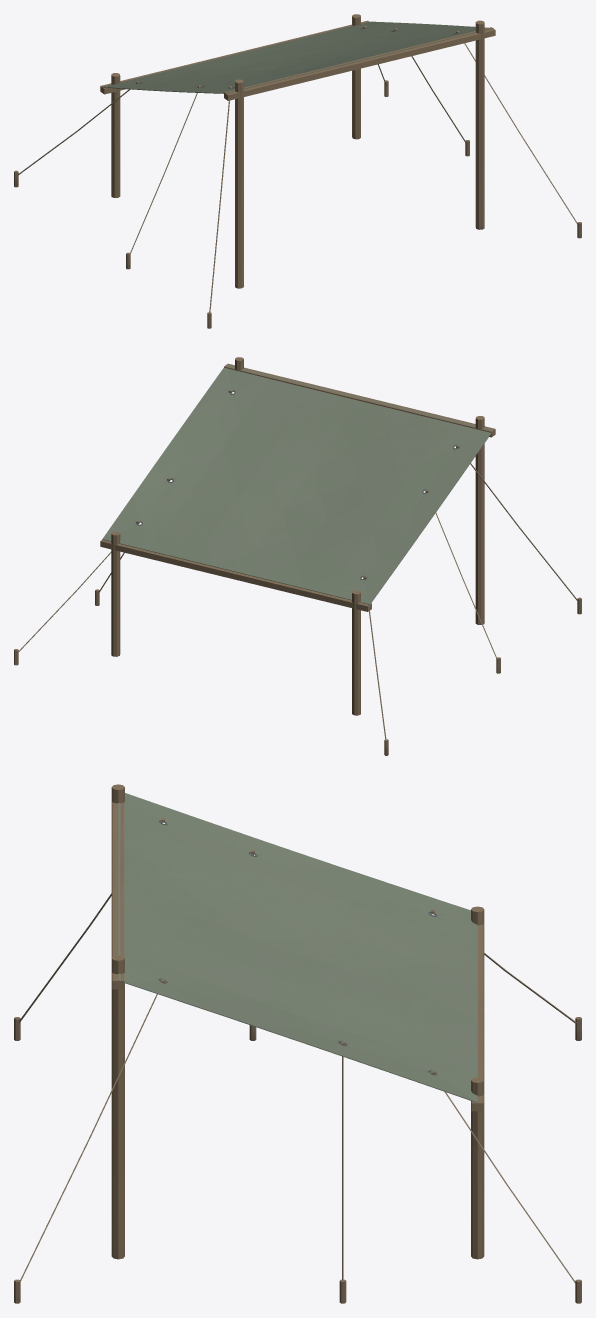
File: forest_tarp_camp_intact.glb
The picture shows the model from 3 angles, top to bottom: view 1: azimuth 30°, elevation 25°; view 2: azimuth 150°, elevation 25°; view 3: azimuth 270°, elevation 25°; orthographic projection. The views are drawn at different scales.
Parts seen in each view (by area): view 1: TarpCampIntact; view 2: TarpCampIntact; view 3: TarpCampIntact.
Boxes of the visible parts, left/top/right/bottom form: TarpCampIntact: left=14, top=14, right=581, bottom=328; TarpCampIntact: left=14, top=357, right=581, bottom=755; TarpCampIntact: left=14, top=784, right=581, bottom=1303.
Size of what is drawn, in the model's own units: 4.19 by 2.2 by 3.79.
1 material, 1 textured.
